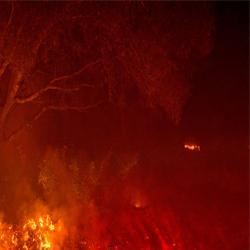fire: (29, 221, 55, 248)
